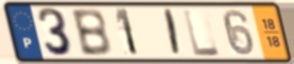1: (114, 7, 141, 59)
3: (36, 7, 75, 59)
6: (221, 8, 257, 58)
B: (69, 7, 114, 58)
I: (164, 8, 183, 58)
L: (181, 8, 223, 58)
